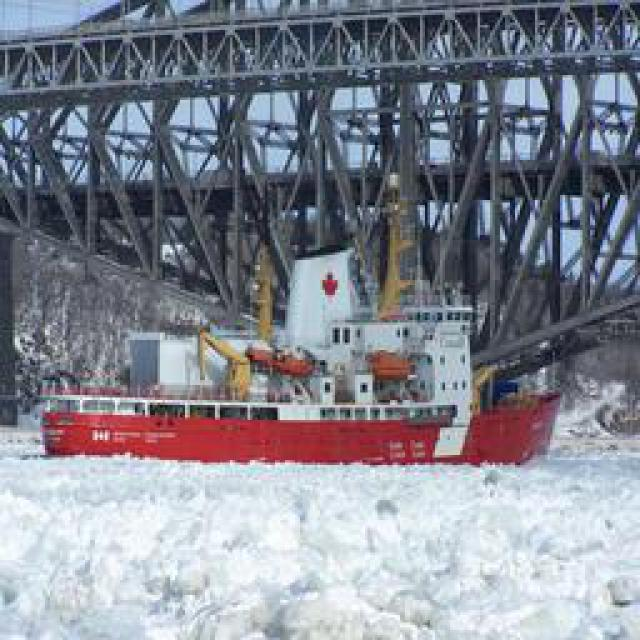Ship: (36, 374, 556, 469)
